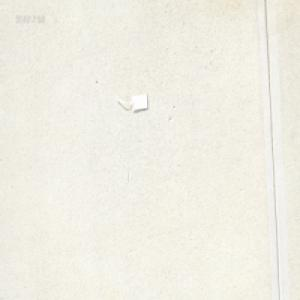LuggageTag: (113, 92, 148, 112)
